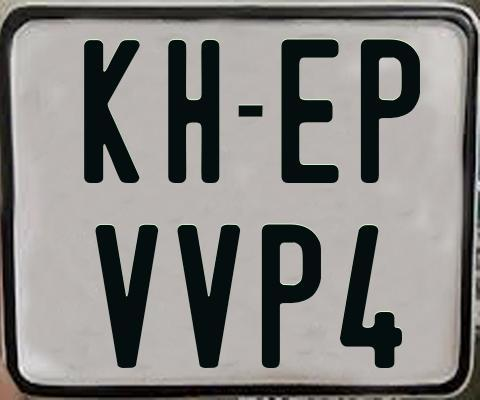4: (340, 224, 407, 372)
E: (281, 38, 340, 185)
H: (168, 39, 224, 187)
K: (82, 37, 144, 183)
P: (259, 223, 322, 372), (358, 38, 420, 186)
V: (95, 223, 164, 368), (175, 222, 242, 368)
